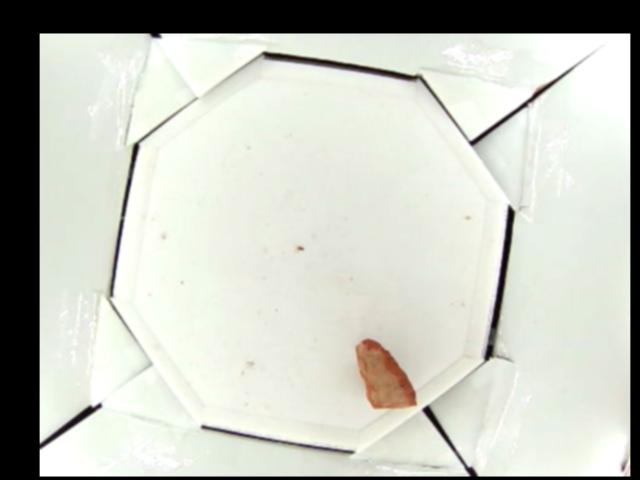Brisk: (356, 338, 419, 409)
